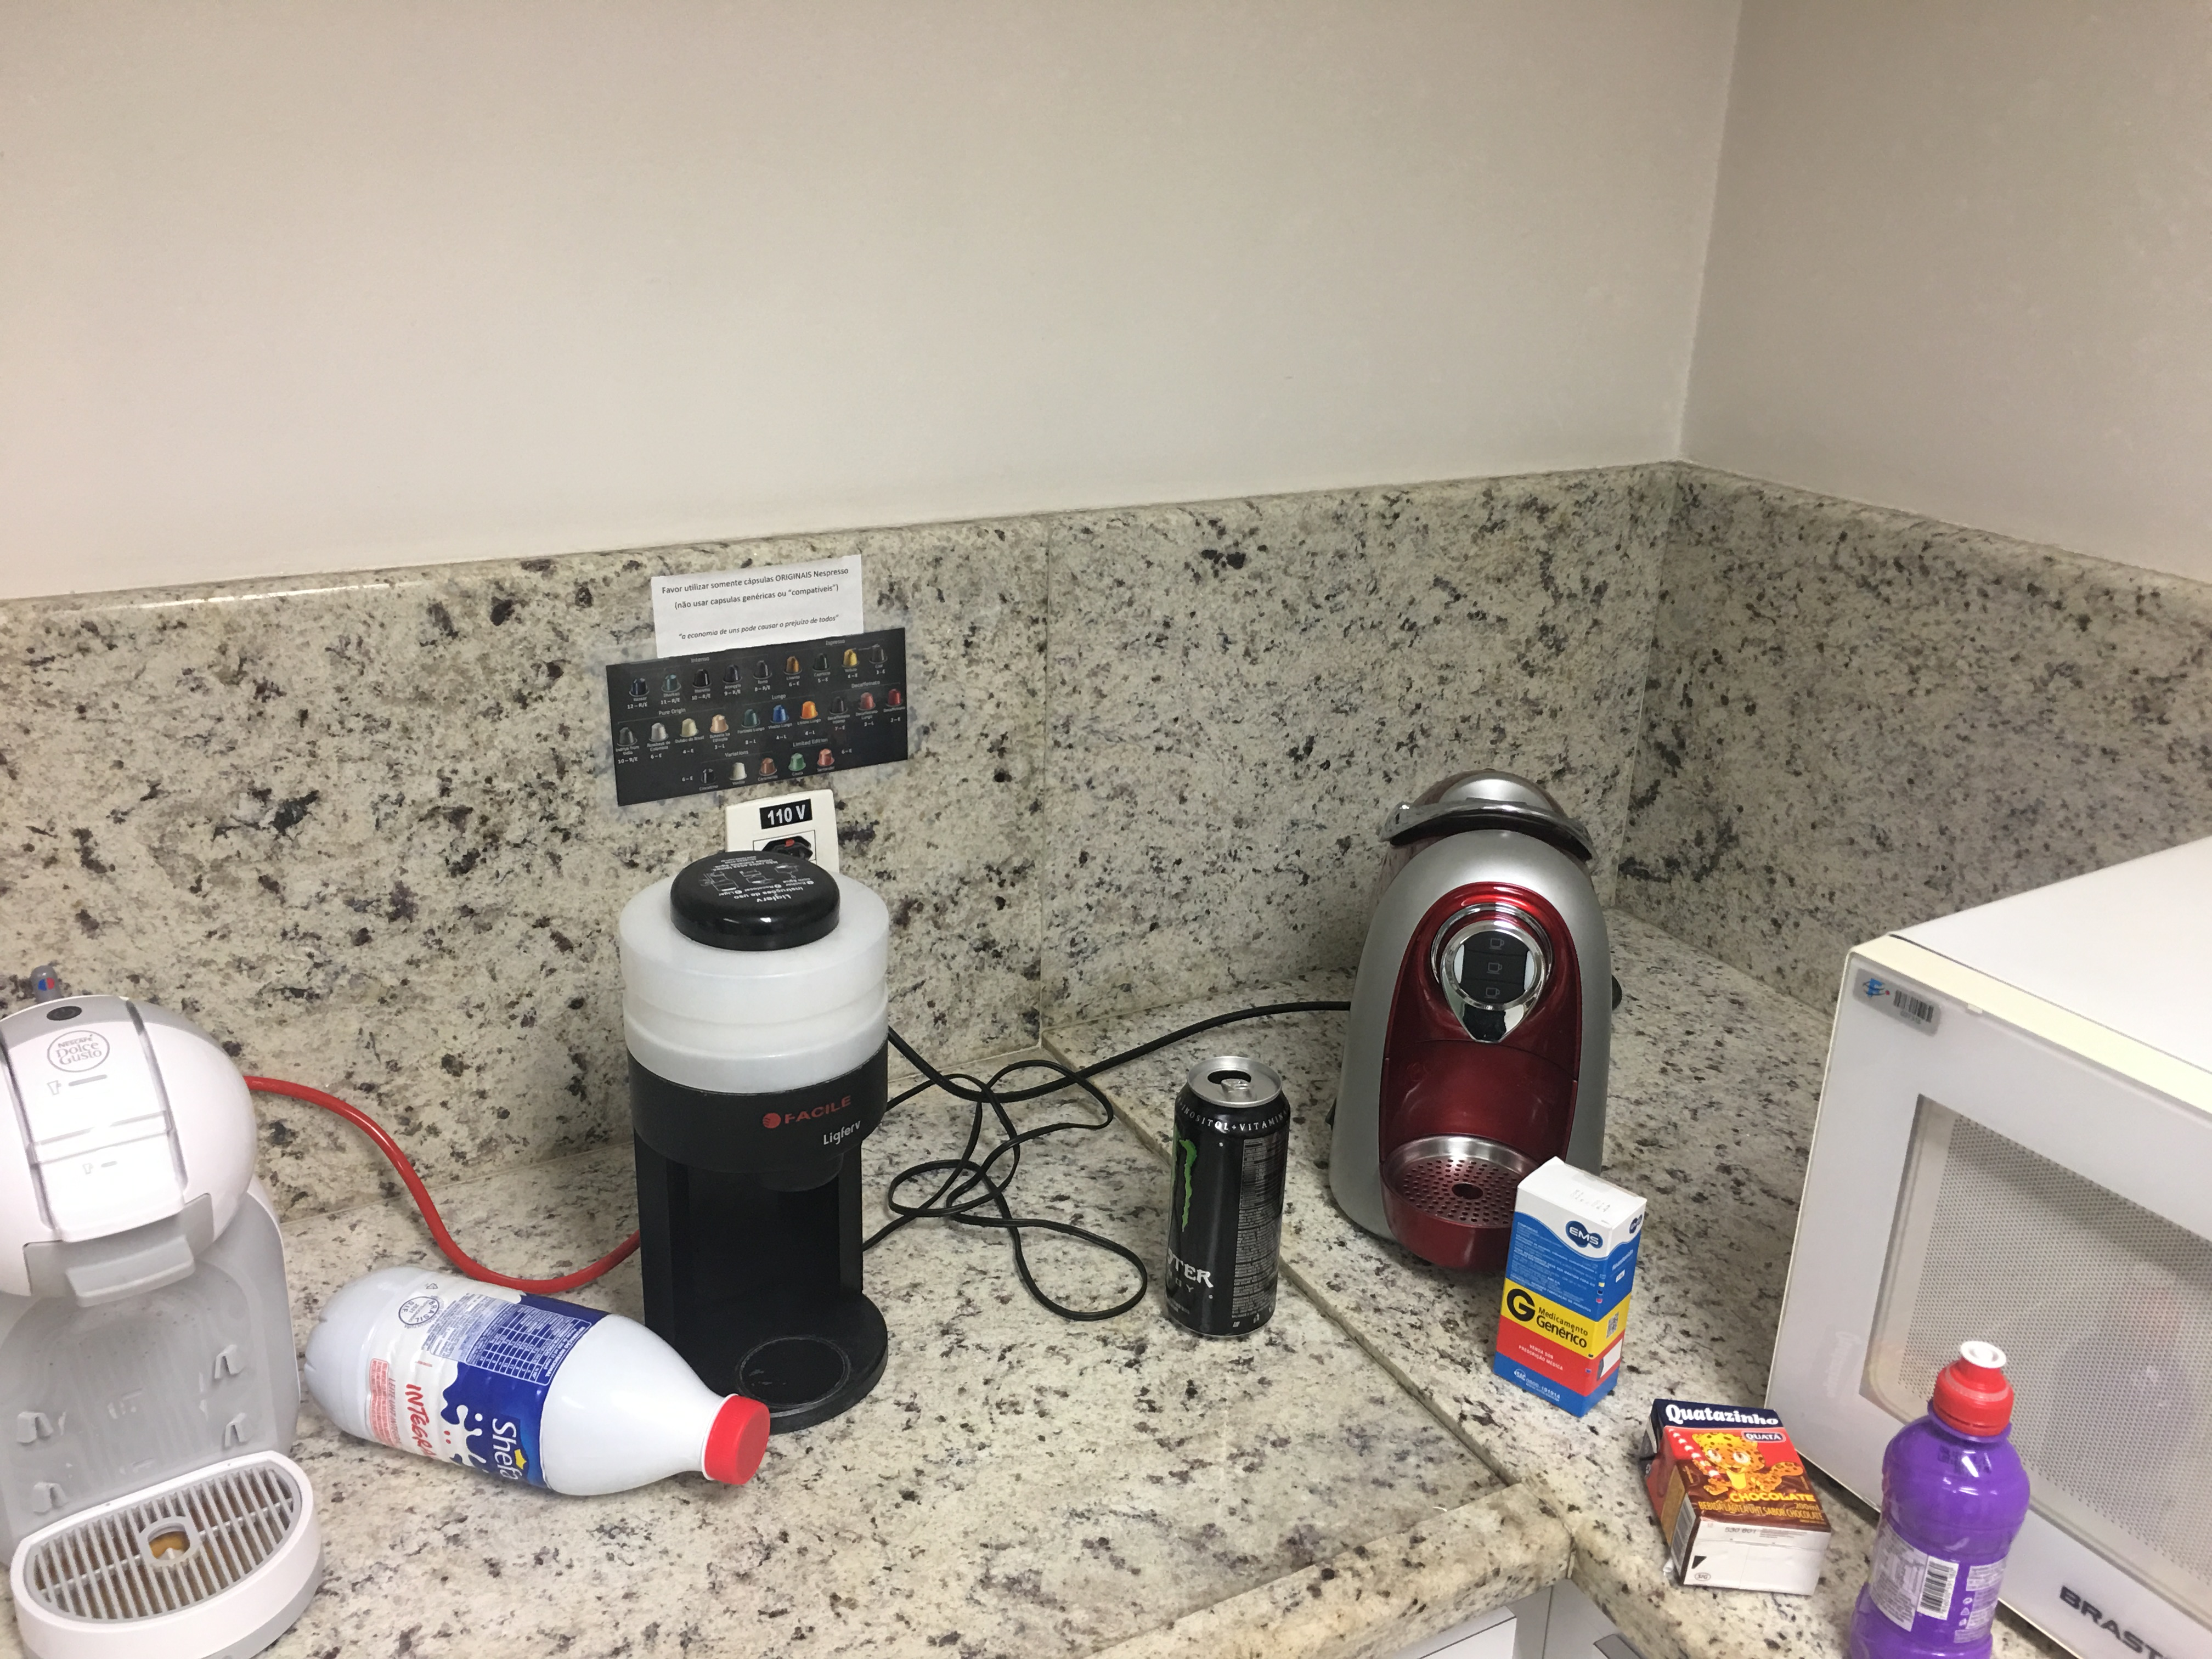chocolate_milk: (1642, 1394, 1839, 1595)
medicine: (1498, 1155, 1642, 1417)
milk_bottle: (301, 1262, 772, 1504)
monster: (1165, 1053, 1285, 1342)
purple_juice: (1858, 1342, 2038, 1659)
